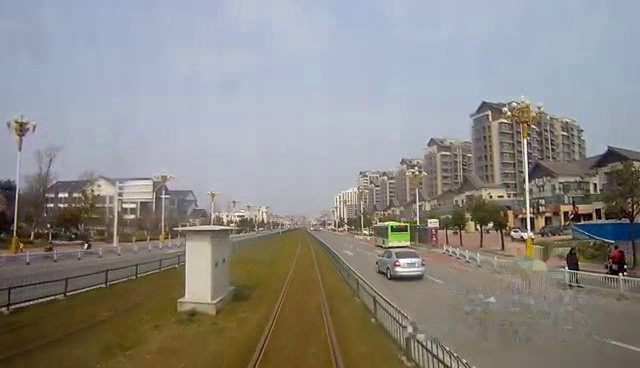bus: (369, 218, 414, 252)
car: (376, 245, 431, 282)
